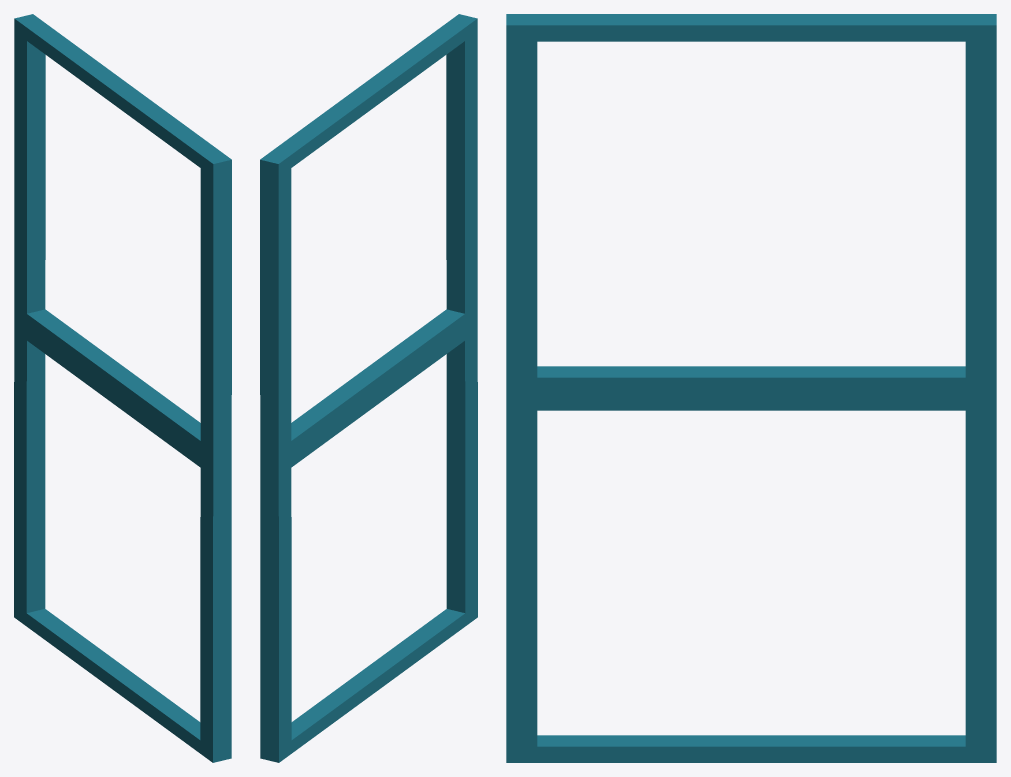
File: B03_porte_Superette.fbx
3 renders of one model, left to right at view 1: azimuth 30°, elevation 25°; view 2: azimuth 150°, elevation 25°; view 3: azimuth 270°, elevation 25°, orthographic. The views are drawn at different scales.
Visible parts, largest first — view 1: B03_porte_Superette; view 2: B03_porte_Superette; view 3: B03_porte_Superette.
Part boxes in pixels (x1,y1,x2,y2): B03_porte_Superette: (14,14,231,762); B03_porte_Superette: (260,14,477,762); B03_porte_Superette: (506,14,996,762).
Size of the model in its own units: 10.97 by 330 by 199.
